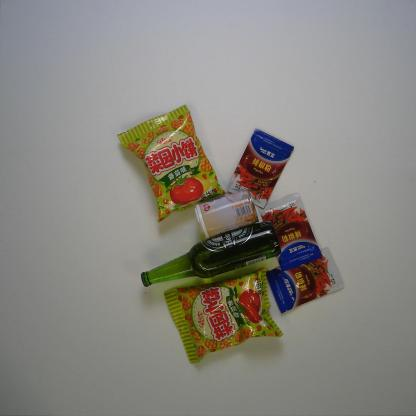Alcohol: (140, 219, 283, 289)
Canned Food: (194, 187, 259, 241)
Puffed Food: (116, 103, 228, 226), (164, 265, 285, 365)
Seasoner: (224, 127, 296, 211), (266, 245, 345, 315), (257, 192, 323, 274)
